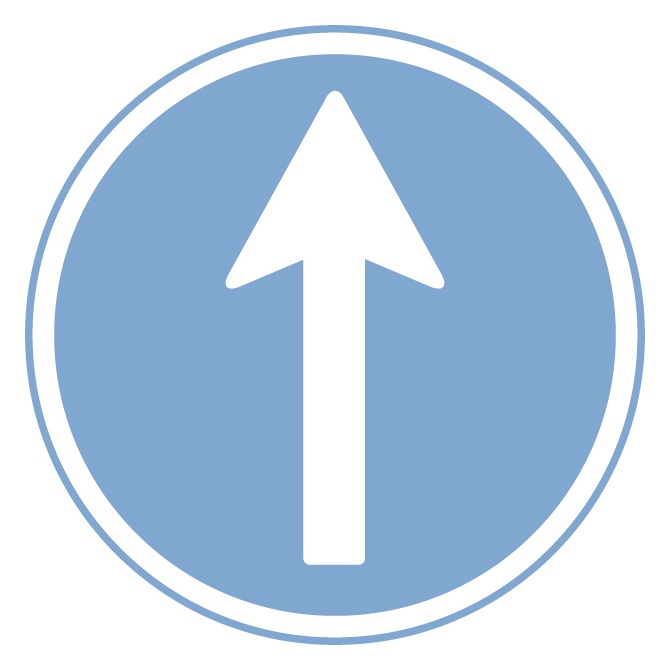Direction_sign: (18, 1, 655, 645)
